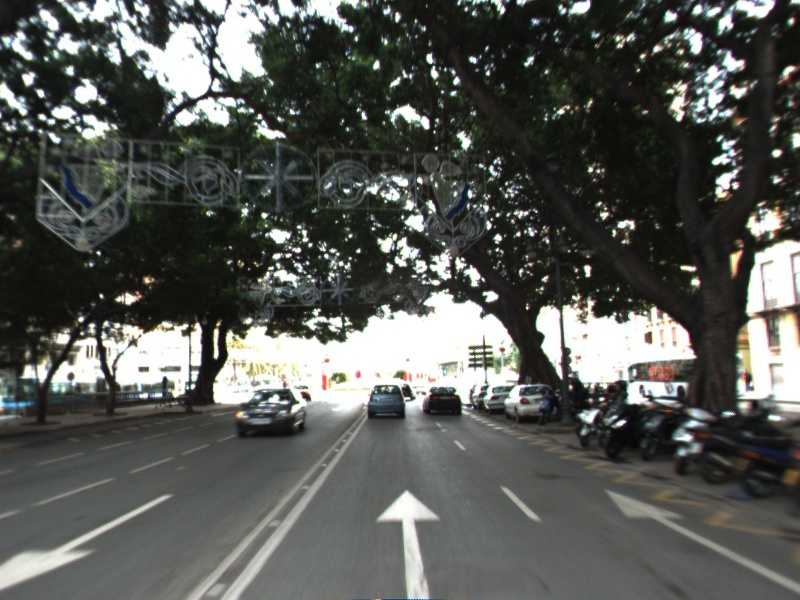STRAIGHT: (601, 485, 800, 593), (372, 486, 445, 600)
